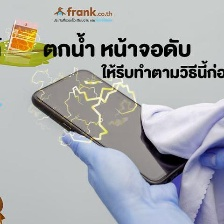phone: (29, 63, 209, 190)
